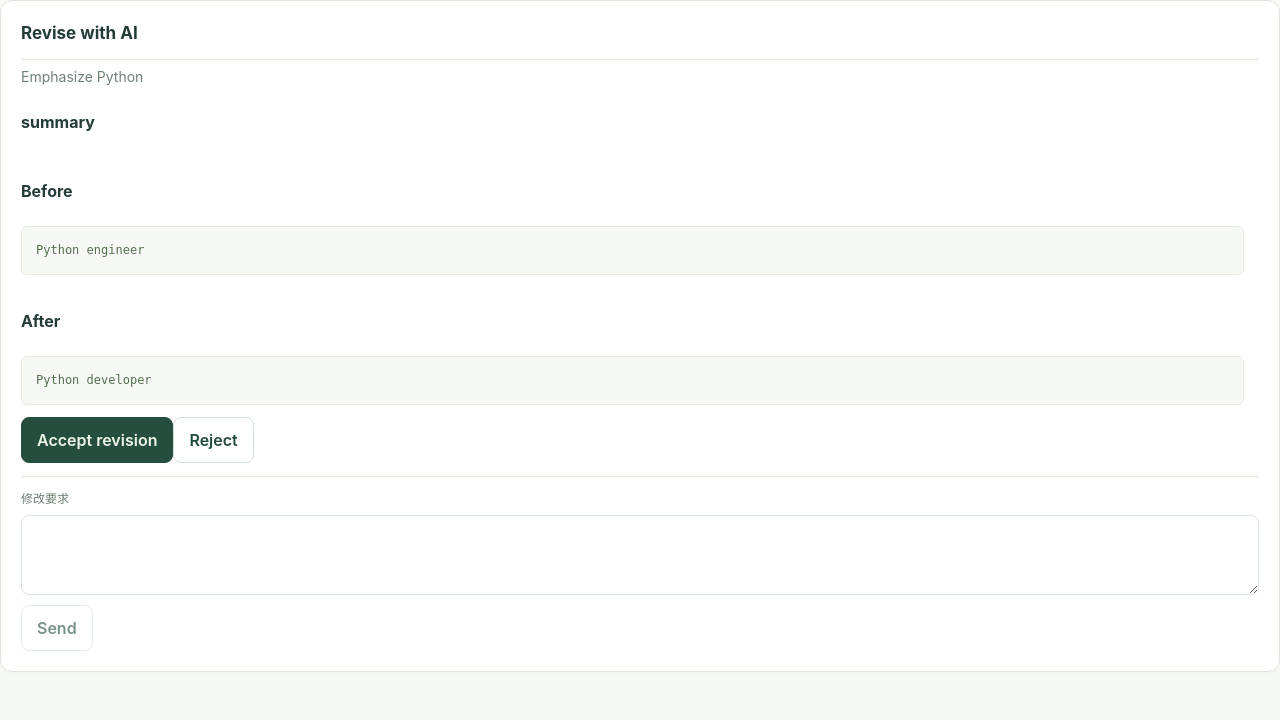
Test: rejects without navigation or changing accepted resume
(page scrolled)
Click the button "Reject" at (214, 440), box [173, 417, 254, 464]
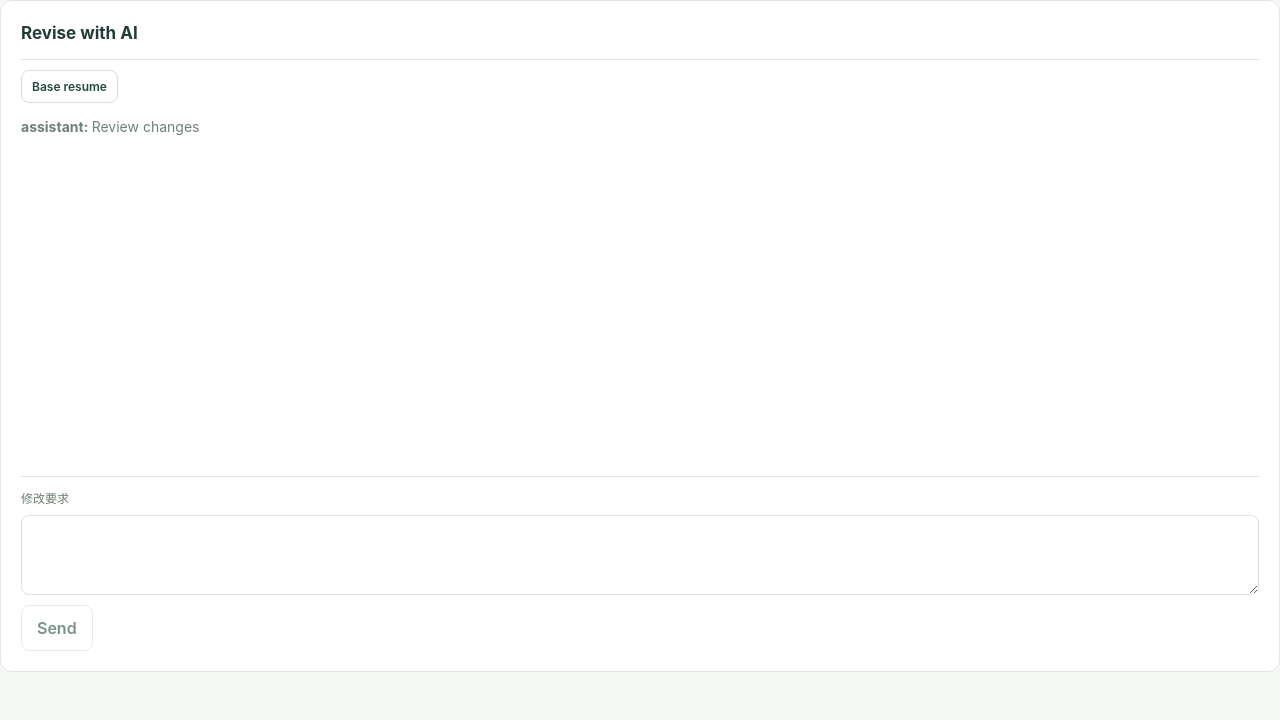
Expected: the field labelled "Pending revision" is not shown
Expected: the text "Review changes" is shown, [92, 118, 199, 135]
